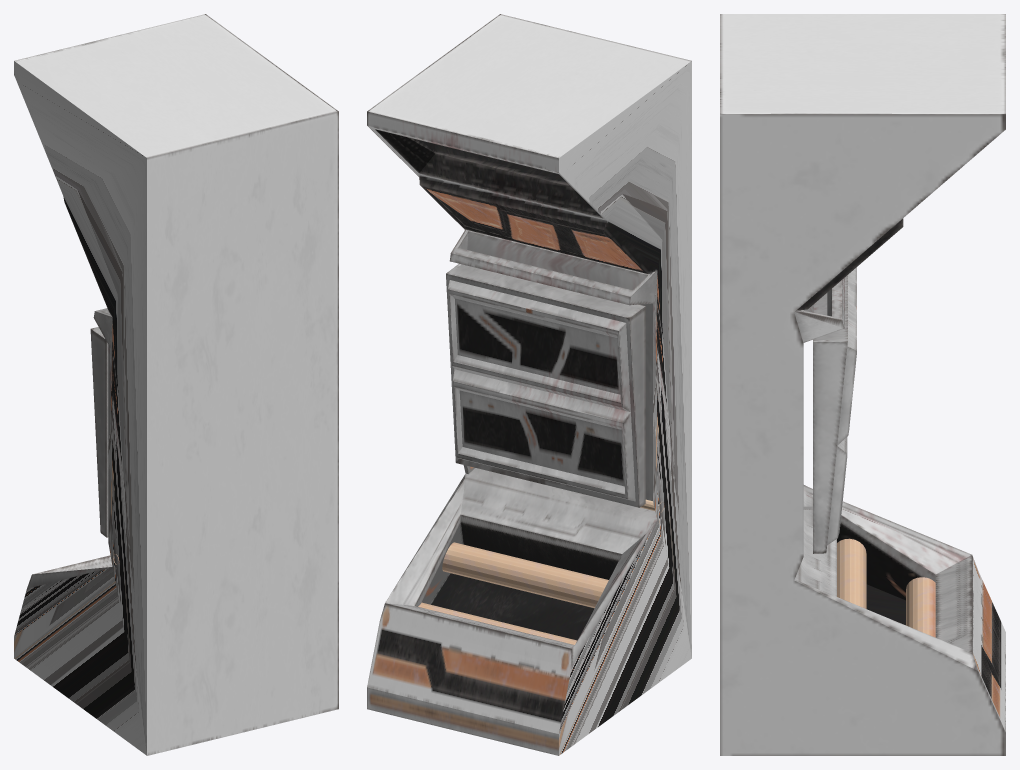
The model's file is MDL_wall_right.fbx.
3 renders of one model, left to right at view 1: azimuth 30°, elevation 25°; view 2: azimuth 150°, elevation 25°; view 3: azimuth 270°, elevation 25°, orthographic. The views are drawn at different scales.
Parts seen in each view (by area): view 1: Wall_right; view 2: Wall_right; view 3: Wall_right.
Part boxes in pixels (left/top/right/bottom): Wall_right: left=14, top=14, right=338, bottom=755; Wall_right: left=367, top=14, right=691, bottom=755; Wall_right: left=720, top=14, right=1005, bottom=755.
Size of the model in its own units: 101 by 300 by 121.
